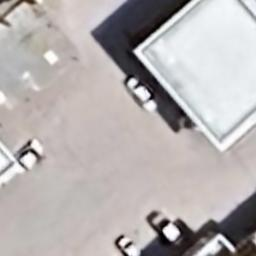sedan: (122, 71, 164, 115), (148, 206, 186, 248), (12, 135, 46, 177), (113, 233, 143, 256)
